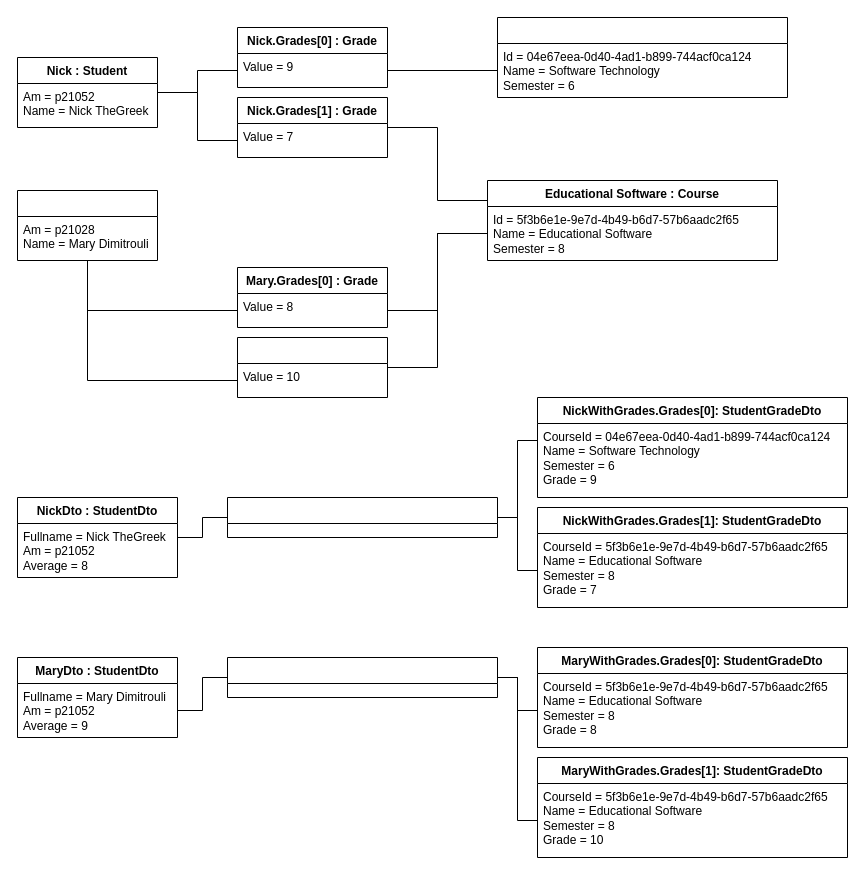
The diagram is 865 pixels wide and 878 high, and some of its shapes have lost their labels. Each missing label, with the box of its shape:
Mary.Grades[1] : Grade: (236, 336, 388, 398)
Mary: Student: (16, 190, 158, 260)
MaryWithGrades : StudentWithGradesDto: (226, 656, 498, 698)
NickWithGrades : StudentWithGradesDto: (226, 496, 498, 538)
Software Technology : Course: (496, 16, 788, 98)
